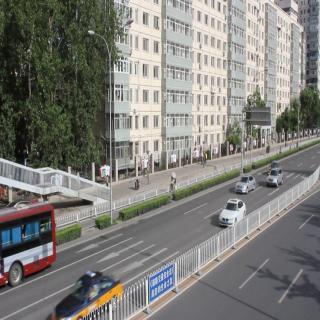BigCar: (0, 206, 59, 284)
Car: (53, 271, 123, 320), (218, 195, 242, 233), (235, 170, 254, 193), (267, 169, 284, 189)
